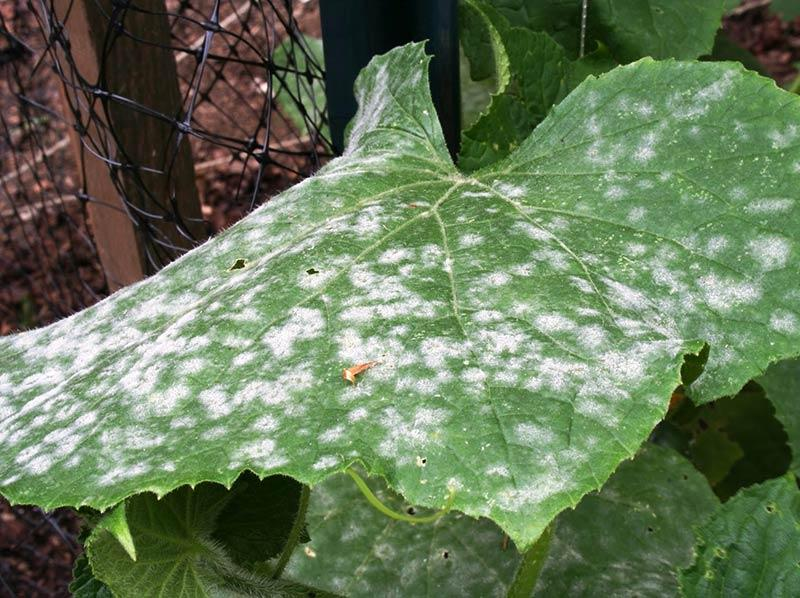Squash Powdery mildew leaf: (8, 34, 800, 535)
